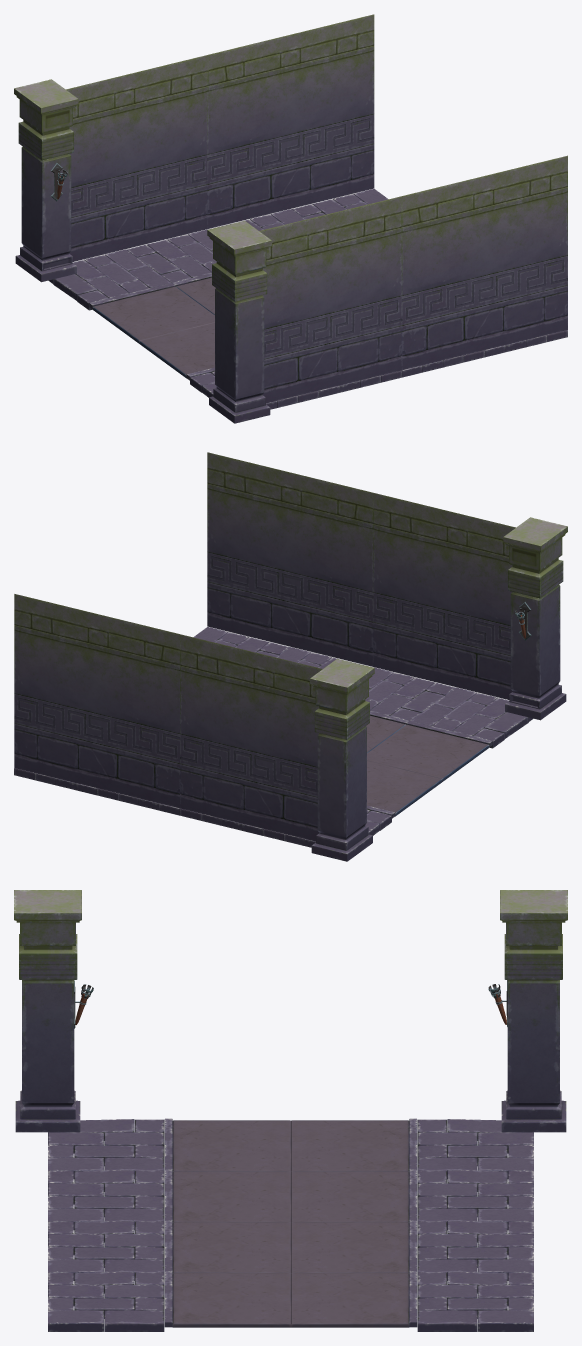
Rendered from recta_normal.fbx.
3 renders of one model, top to bottom at view 1: azimuth 30°, elevation 25°; view 2: azimuth 150°, elevation 25°; view 3: azimuth 270°, elevation 25°, orthographic. The views are drawn at different scales.
Visible parts, largest first — view 1: SM_RECTA1; view 2: SM_RECTA1; view 3: SM_RECTA1.
Boxes of the visible parts, bbox=[...] form: SM_RECTA1: bbox=[14, 14, 567, 423]; SM_RECTA1: bbox=[14, 452, 567, 861]; SM_RECTA1: bbox=[14, 890, 567, 1331].
Size of the model in its own units: 417 by 210 by 458.
